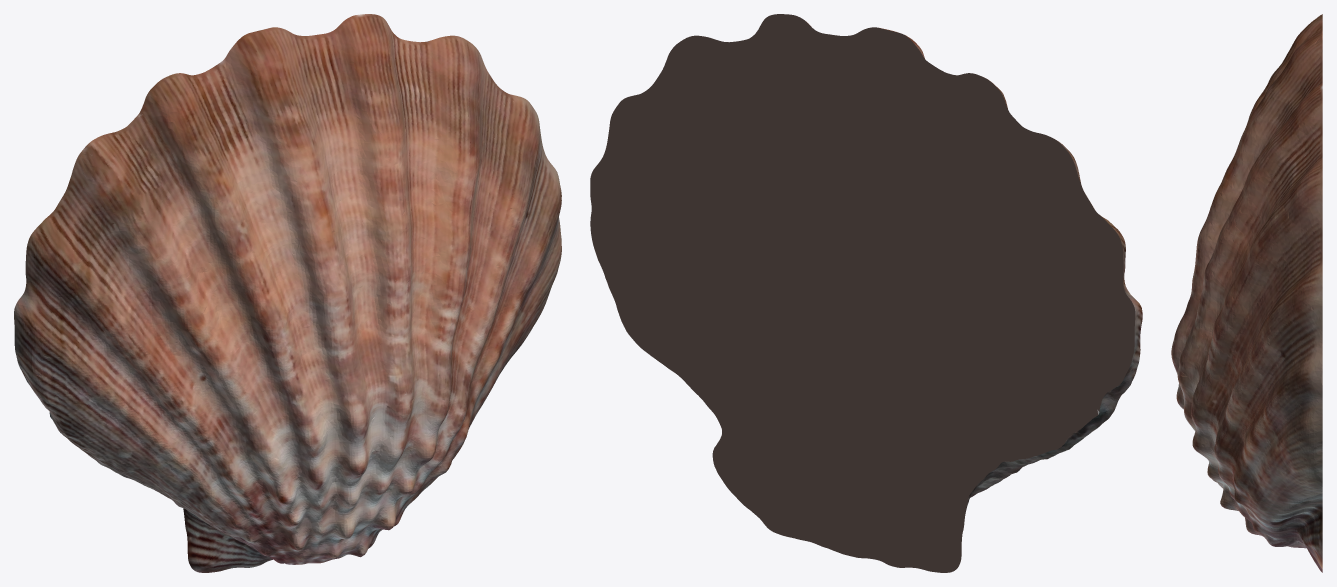
Rendered from shell.fbx.
3 views of the same model, side by side, from view 1: azimuth 30°, elevation 25°; view 2: azimuth 150°, elevation 25°; view 3: azimuth 270°, elevation 25° (orthographic). The views are drawn at different scales.
Visible parts, largest first — view 1: Shell; view 2: Shell; view 3: Shell.
Boxes of the visible parts, x1,y1,x2,y2 form: Shell: (14,14,561,572); Shell: (590,14,1142,572); Shell: (1171,14,1322,572).
Size of the model in its own units: 15080 by 14148 by 3951.
Materials: 1 (1 with a texture image).
